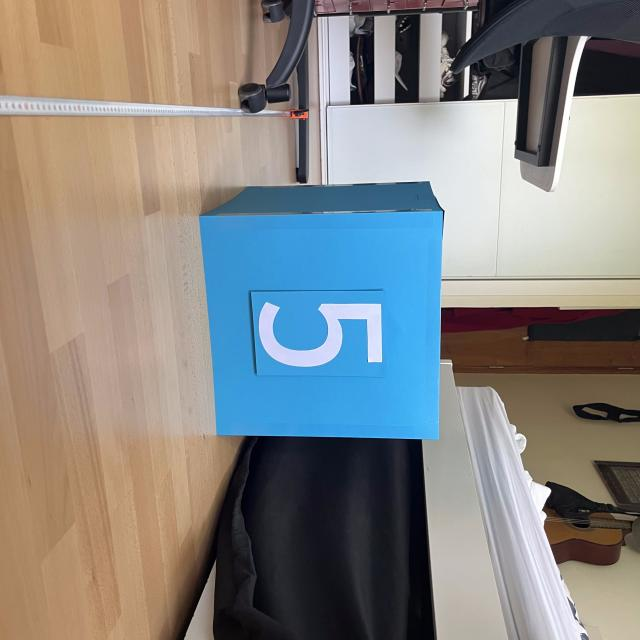box: (193, 178, 448, 442)
